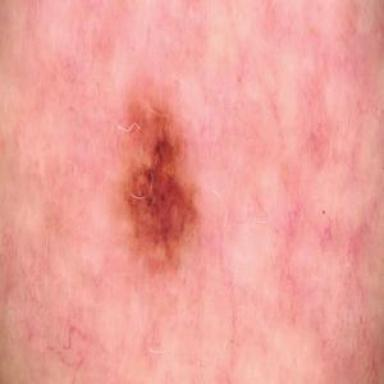Melanoma: (117, 80, 198, 267)
